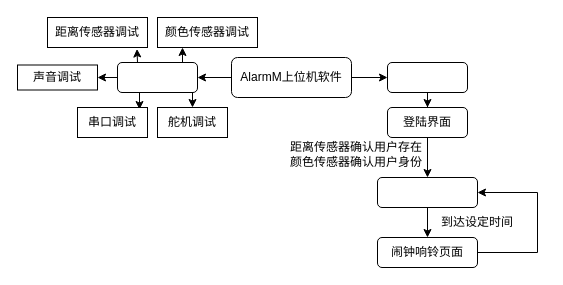
Some shapes in this 563 by 285 pixel diagram are drawn without their labels. The centre of each missing label's shape, as x and y in pixels:
正常流程: (427,77)
维护模式: (157,77)
闹钟设定主界面: (427,192)
